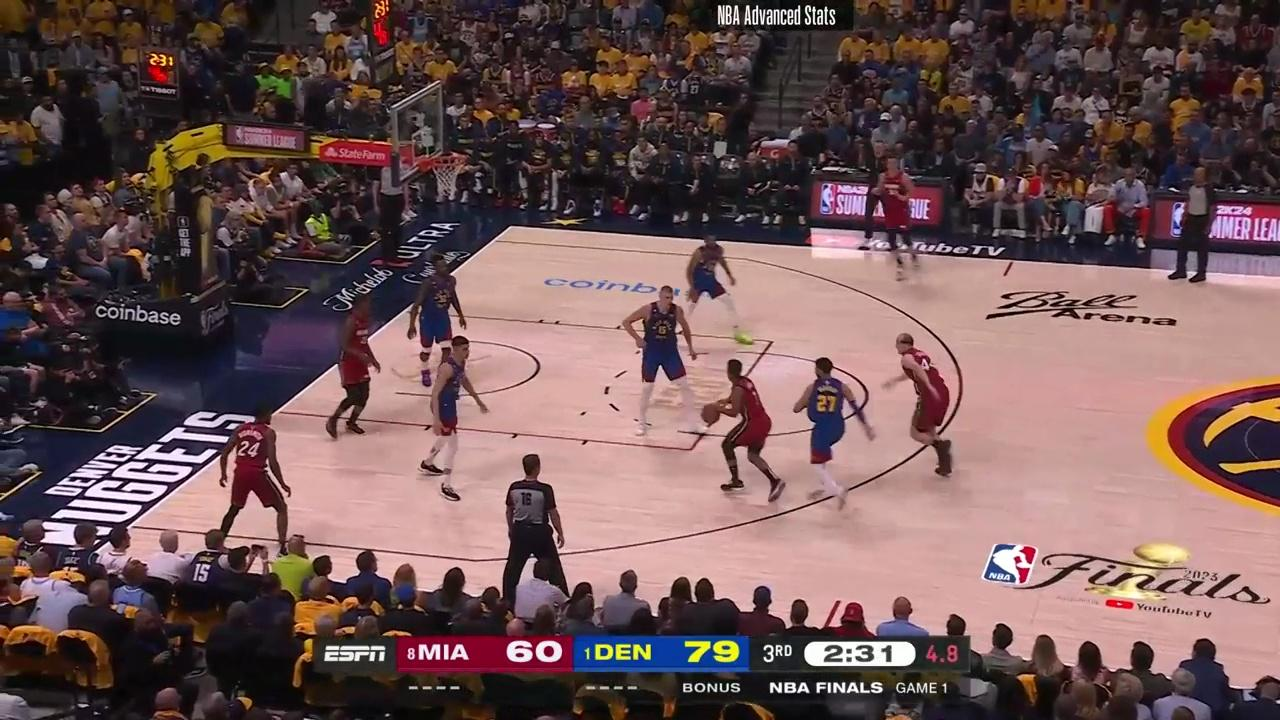Backboard: (395, 84, 442, 189)
Ball: (699, 402, 722, 425)
Basket: (428, 153, 463, 195)
Person: (215, 399, 305, 559), (705, 357, 786, 507), (792, 353, 867, 506), (885, 332, 962, 478), (622, 288, 697, 436), (416, 336, 481, 491), (327, 298, 390, 444), (684, 229, 754, 346), (410, 252, 463, 388), (871, 154, 922, 281)
Referee: (502, 452, 573, 591), (1173, 164, 1218, 282), (375, 172, 414, 267)
Shot Clock: (362, 0, 399, 85), (132, 48, 179, 114)
